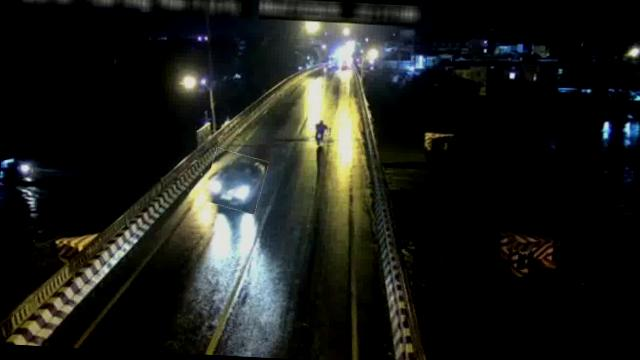Bike: (312, 118, 329, 146)
Car: (205, 150, 267, 212)
